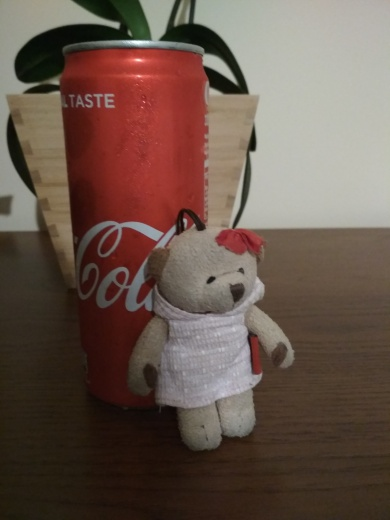cola: (47, 31, 267, 436)
